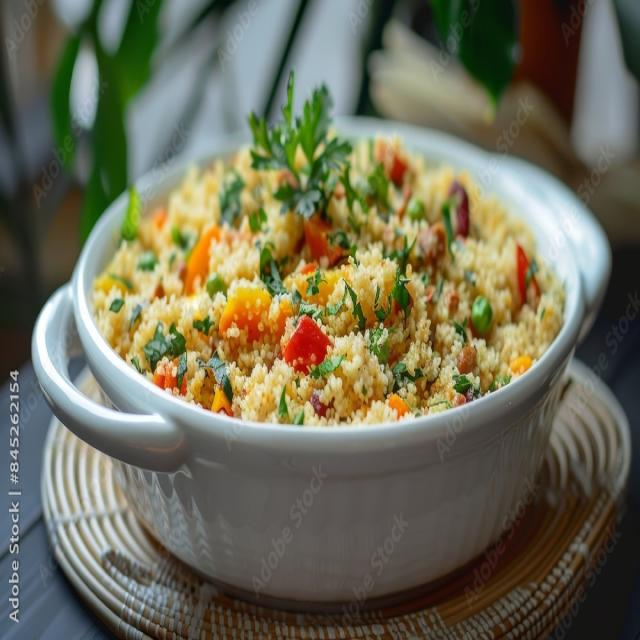UPMA: (95, 78, 563, 425)
